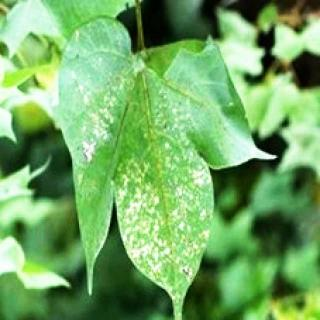grey mildew: (51, 17, 217, 318)
